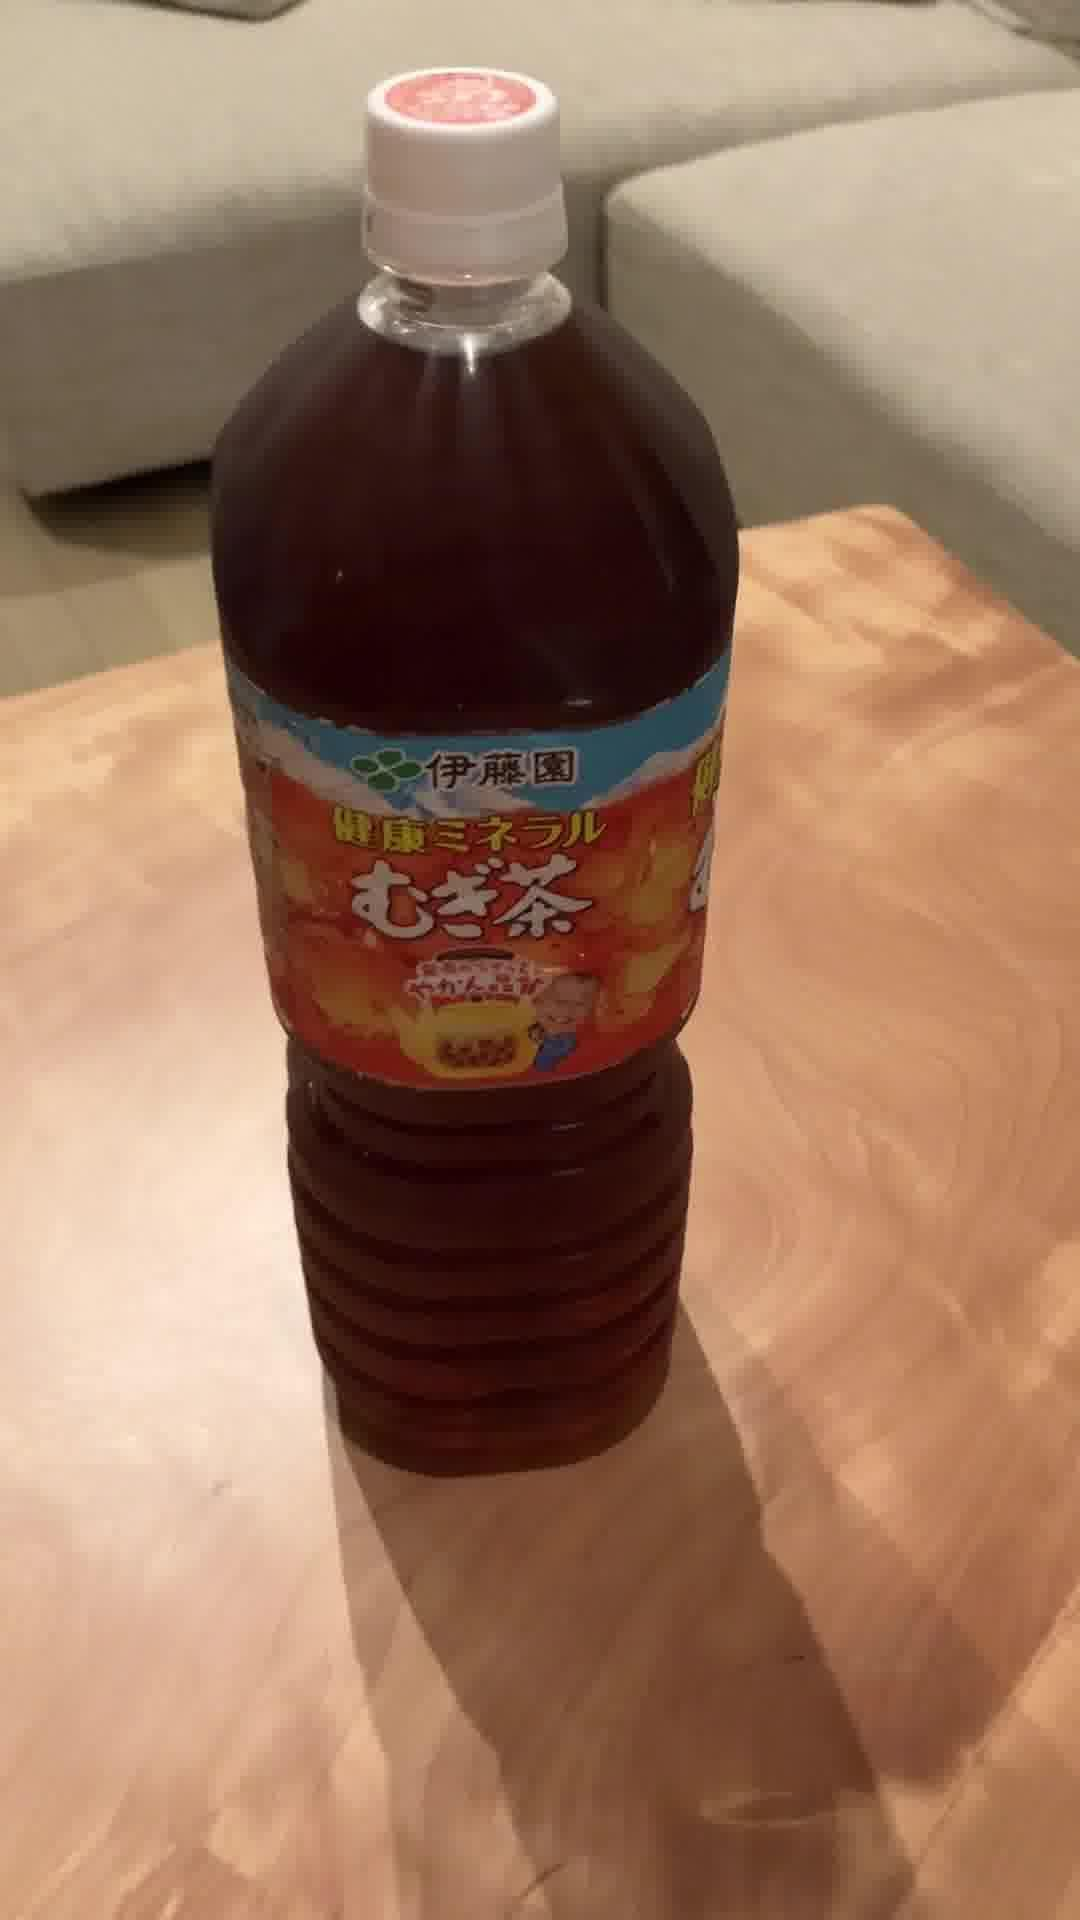BIODEGRADABLE: (198, 58, 744, 1485)
